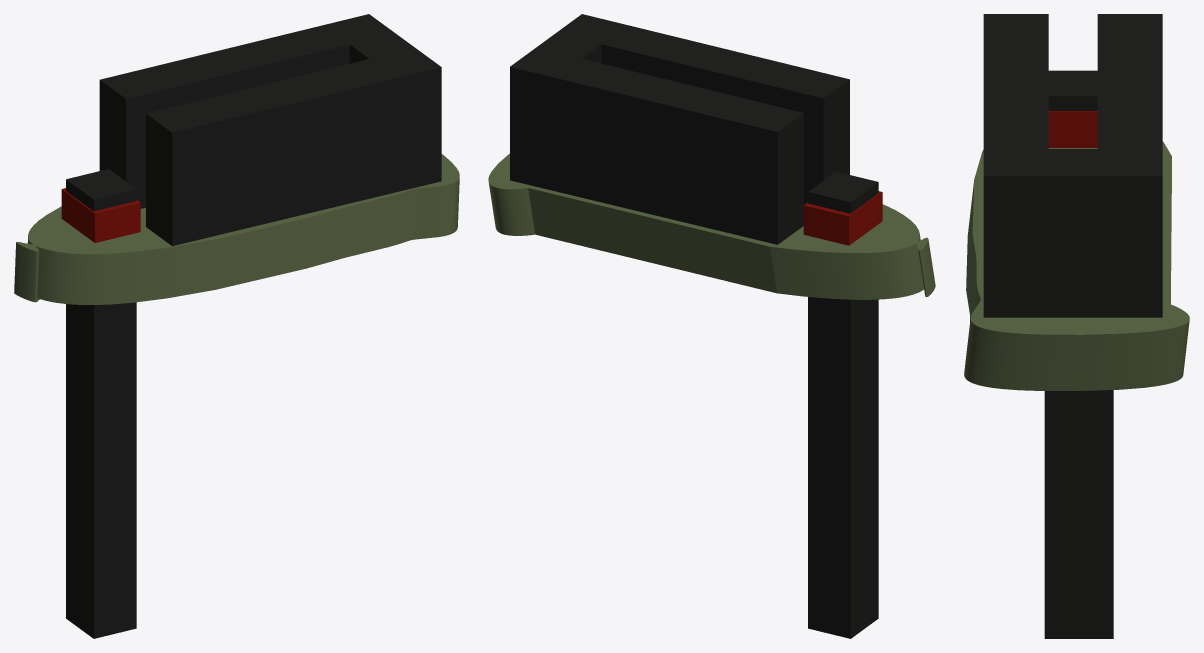
The model's file is mining.dae.
The picture shows the model from 3 angles, left to right: view 1: azimuth 30°, elevation 25°; view 2: azimuth 150°, elevation 25°; view 3: azimuth 270°, elevation 25°; orthographic projection. The views are drawn at different scales.
Visible parts, largest first — view 1: Cube (×2), Extrude, Cube.1 (×2), Cube.5, Cube.4, Cube.3, Cube.2, Cube.11, Cap_2, Cube.9, Cube.7, Cube.10 (+3 smaller); view 2: Cube (×2), Extrude, Cube.11, Cube.8, Cube.6, Cube.7, Cube.9, Cube.10, Cap_2, Cube.1 (×2), Cube.3, Cube.2 (+3 smaller); view 3: Cube (×2), Extrude, Cube.12, Cube.5, Cube.6, Cap_2, Cube.1 (×2), Cube.10, Cube.11, Cube.9, Cube.2, Cube.3 (+3 smaller).
Boxes of the visible parts, x1,y1,x2,y2 form: Cube (×2): (66,103,217,638); Extrude: (14,178,459,304); Cube.1 (×2): (61,91,262,242); Cube.5: (370,48,441,191); Cube.4: (325,59,396,202); Cube.3: (280,70,351,213); Cube.2: (236,81,306,224); Cube.11: (99,69,171,208); Cap_2: (16,154,459,254); Cube.9: (190,47,260,96); Cube.7: (279,25,350,74); Cube.10: (144,58,215,106); Cube (×2): (778,68,878,638); Extrude: (488,182,935,299); Cube.11: (732,102,803,244); Cube.8: (599,69,669,212); Cube.6: (510,47,580,190); Cube.7: (554,58,625,201); Cube.9: (644,80,714,223); Cube.10: (688,91,758,233); Cap_2: (488,153,928,252); Cube.1 (×2): (734,57,882,245); Cube.3: (645,36,715,84); Cube.2: (689,46,760,95); Cube (×2): (983,14,1113,638); Extrude: (964,180,1189,390); Cube.12: (1045,149,1109,317); Cube.5: (983,149,1048,317); Cube.6: (1097,149,1162,317); Cap_2: (970,141,1189,334); Cube.1 (×2): (983,40,1097,147); Cube.10: (1097,40,1162,68); Cube.11: (1097,14,1162,41); Cube.9: (1097,67,1162,95); Cube.2: (983,67,1048,95); Cube.3: (983,95,1048,122).
Size of the model in its own units: 1823 by 2139 by 693.
